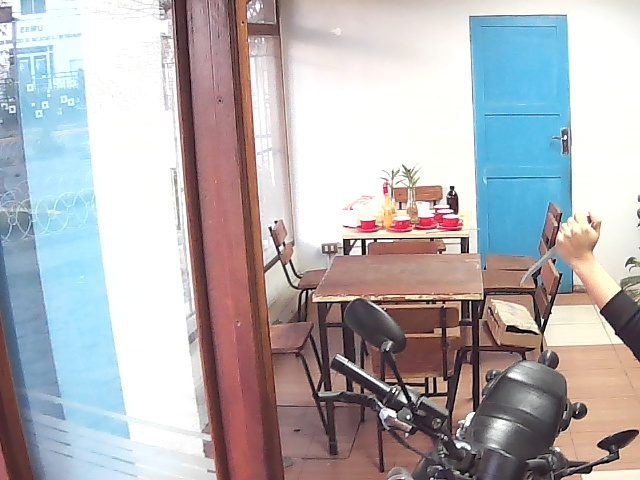cuchillo: (517, 206, 612, 294)
